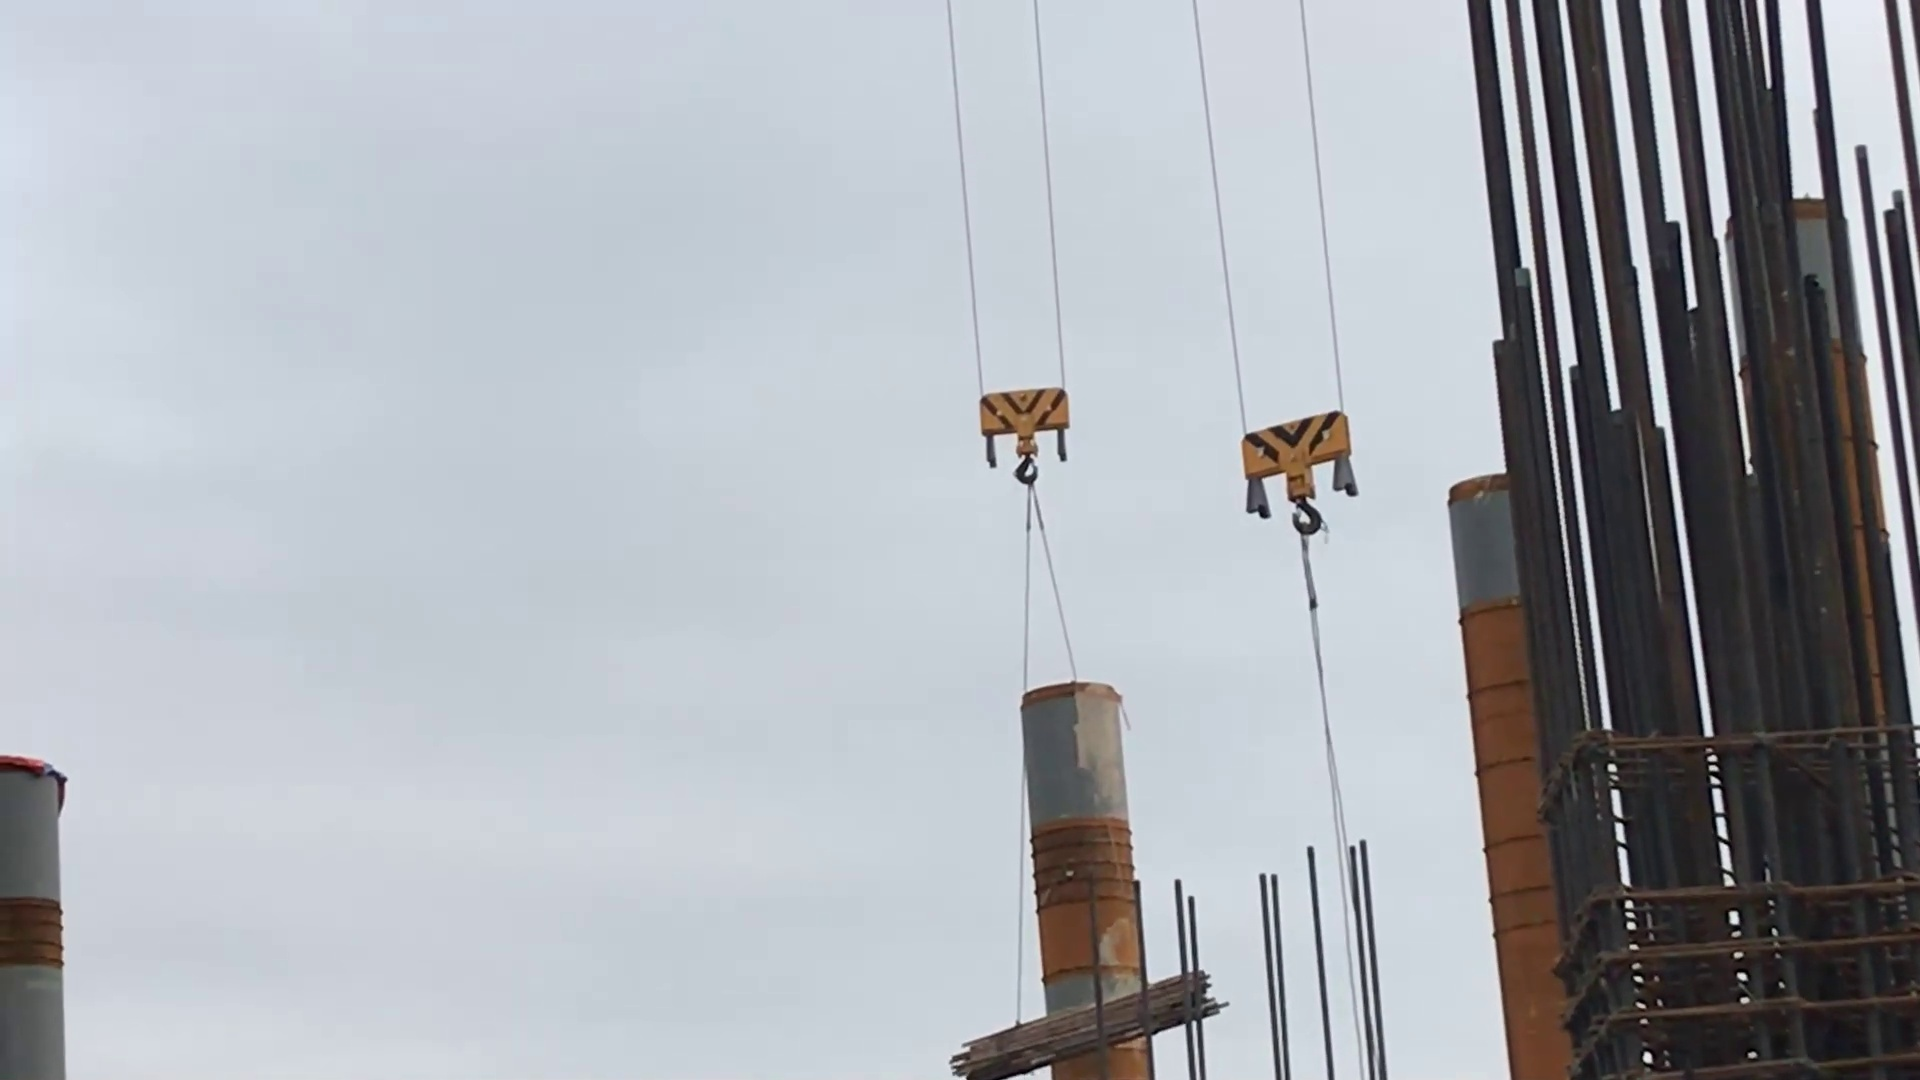hook: (1236, 407, 1361, 541), (977, 384, 1069, 489)
